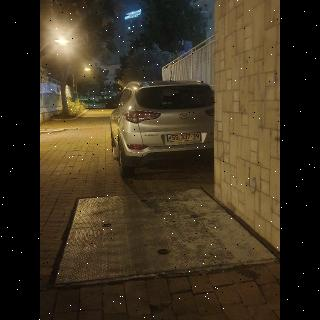LicensePlate: (171, 133, 200, 141)
